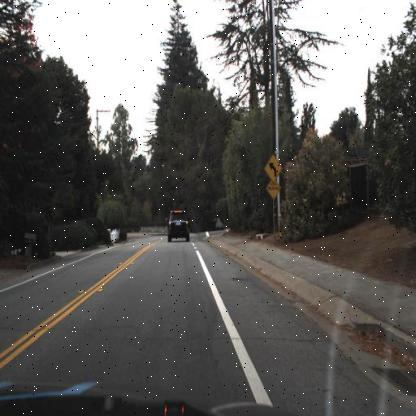car: (168, 206, 191, 240)
